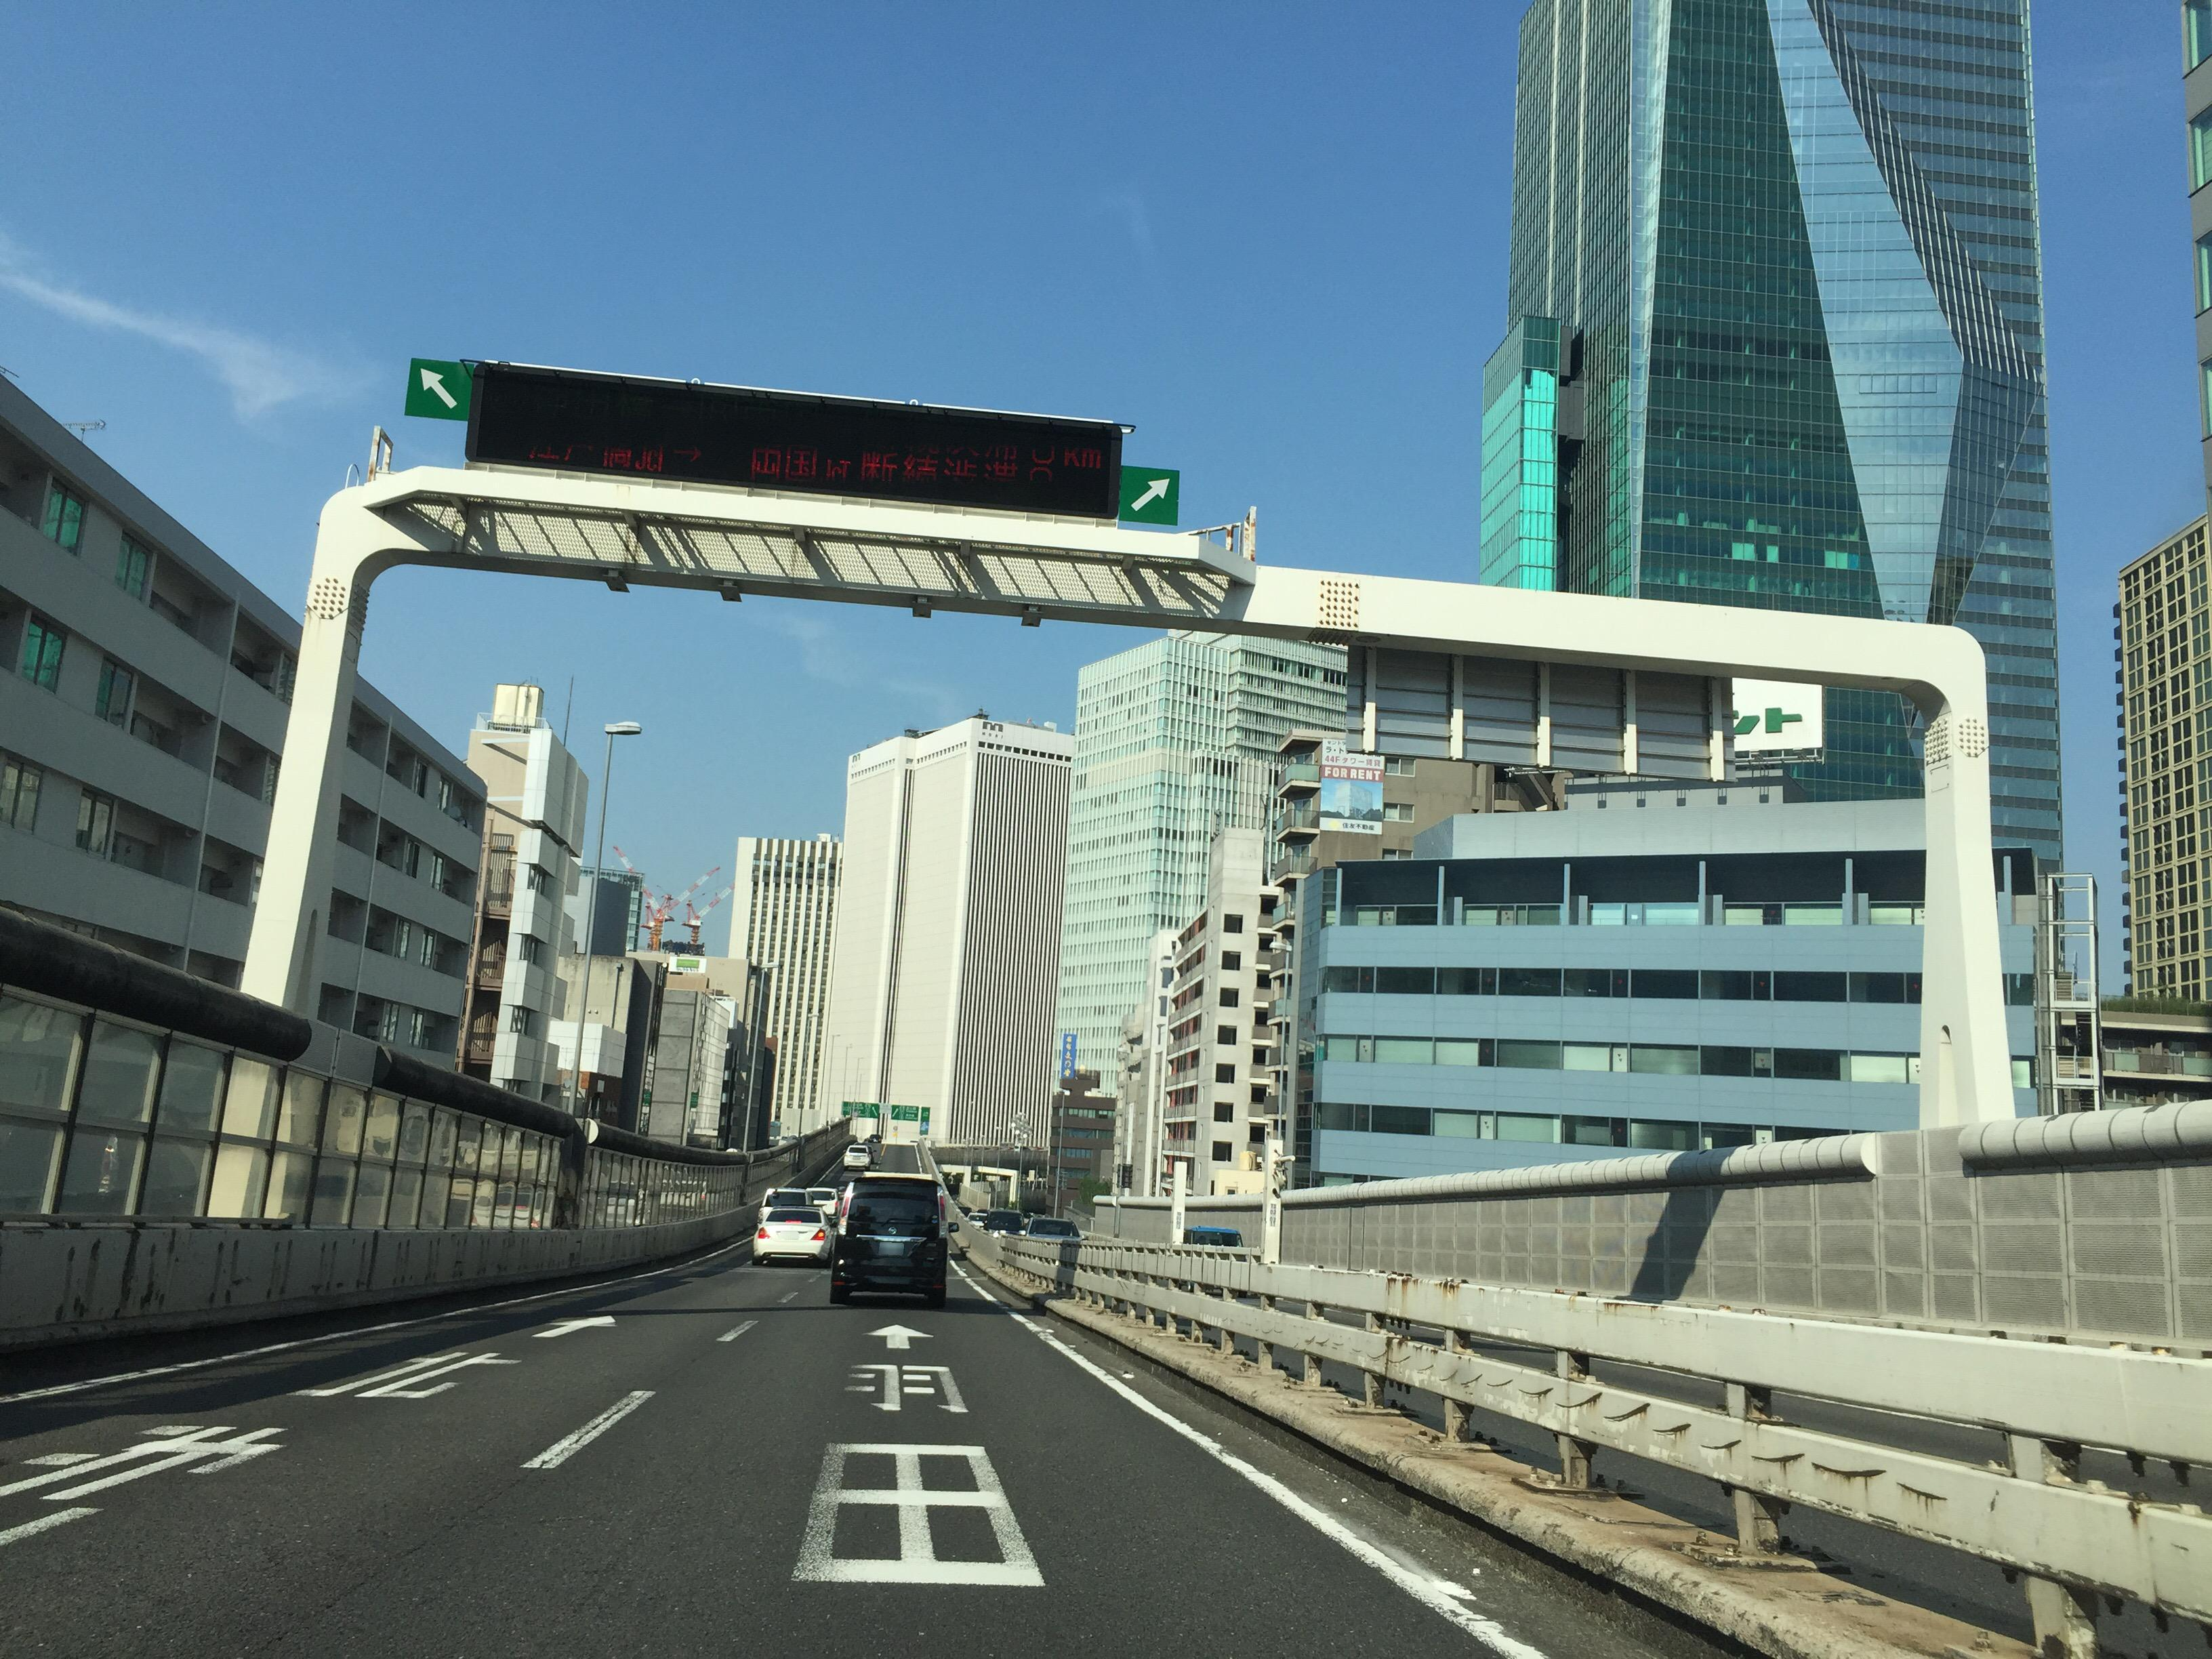vinyl banner: (1301, 721, 1411, 857)
